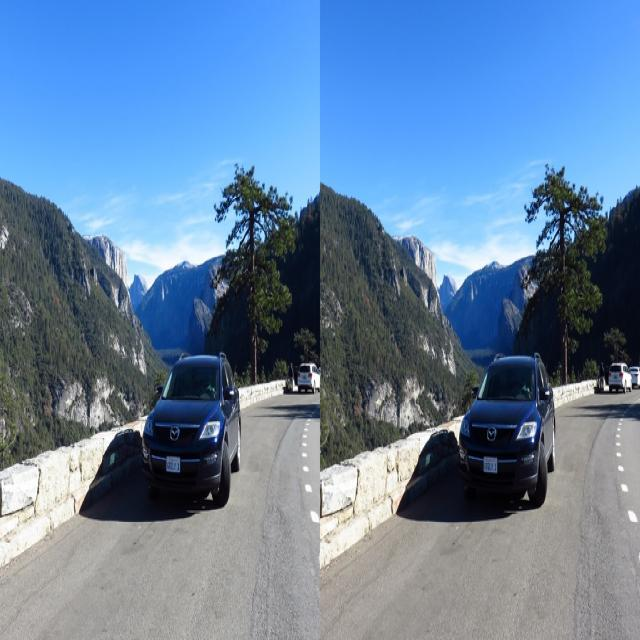truck: (144, 354, 242, 504), (460, 352, 558, 499), (296, 361, 318, 393), (607, 362, 632, 389), (631, 363, 639, 388)
